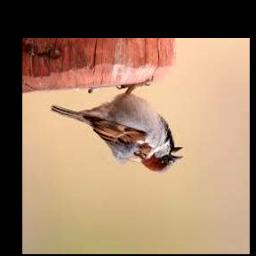Sparrow: (52, 78, 184, 174)
